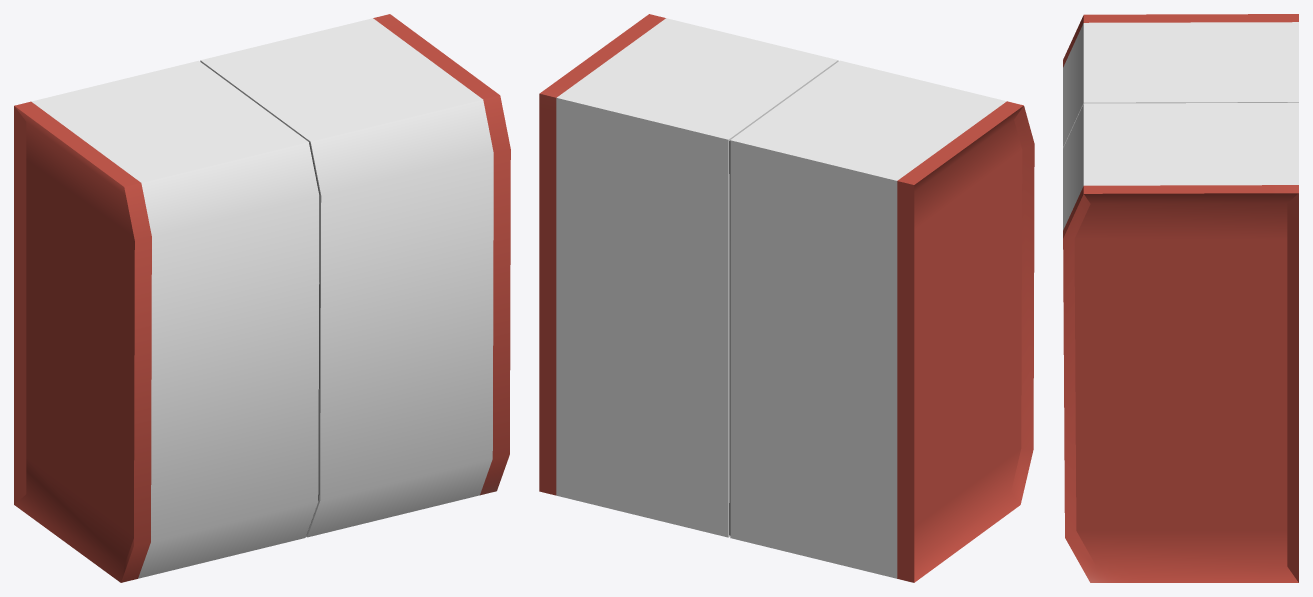
File: topcabinet.fbx
3 views of the same model, side by side, from view 1: azimuth 30°, elevation 25°; view 2: azimuth 150°, elevation 25°; view 3: azimuth 270°, elevation 25° (orthographic). The views are drawn at different scales.
Visible parts, largest first — view 1: topcabinet; view 2: topcabinet; view 3: topcabinet.
Boxes of the visible parts, x1,y1,x2,y2 form: topcabinet: (14,14,510,582); topcabinet: (539,14,1034,582); topcabinet: (1063,14,1298,582).
Size of the model in its own units: 0.7781 by 1.42 by 1.4.
